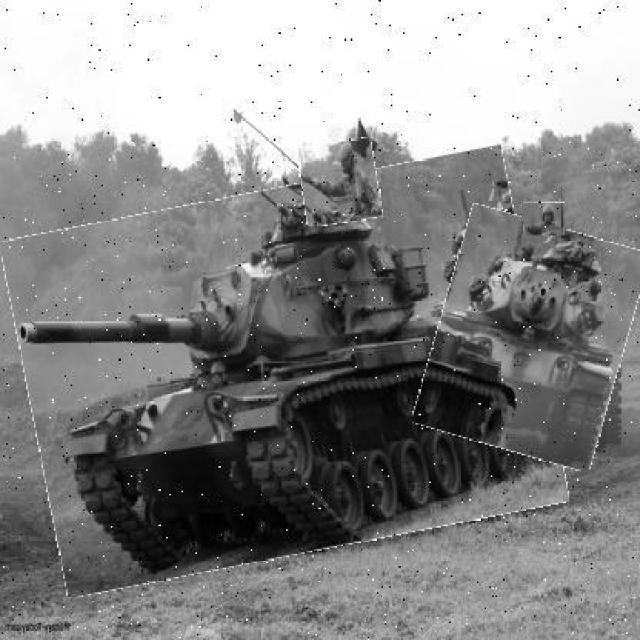Person: (299, 141, 381, 227), (523, 202, 566, 238)
Tank: (15, 169, 555, 578), (426, 215, 638, 464)
